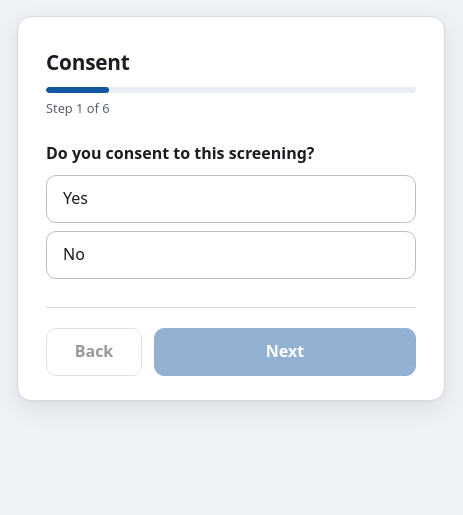
Test case: App › shows an inline banner (not the reload screen) when a mid-session submit fails, and clears it on retry
The width and height of the screenshot is (463, 515).
Expected: the text "Do you consent to this screening?" is shown, top-left (46, 142), bottom-right (314, 164)
Click the button "Yes".
click(75, 198)  # box top-left (46, 175), bottom-right (416, 223)
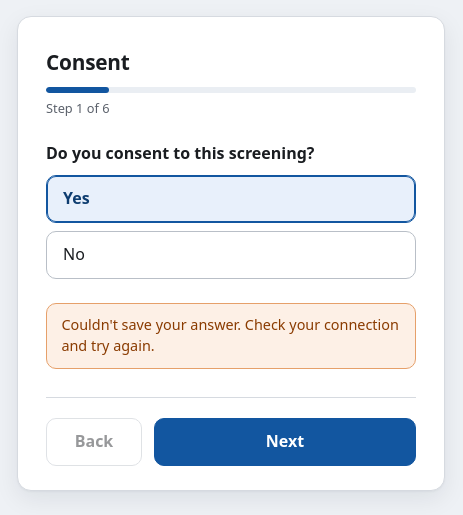
Expected: the heading "Consent" is shown, top-left (46, 48), bottom-right (130, 76)
Now the text "Couldn't save your answer. Check your connection and try again." is shown, box top-left (46, 303), bottom-right (416, 369)
Click the button "Yes".
click(76, 198)  # box top-left (46, 175), bottom-right (416, 223)
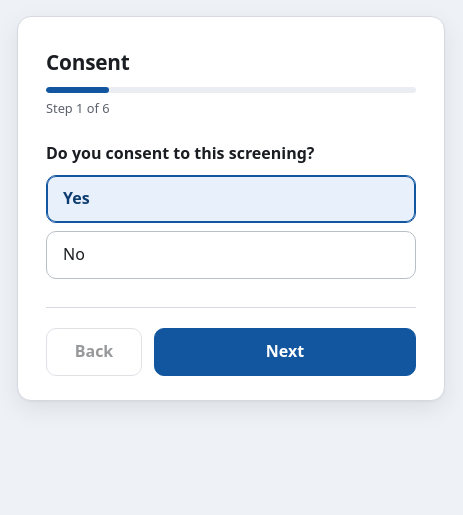
Now the text "Couldn't save your answer" is gone
